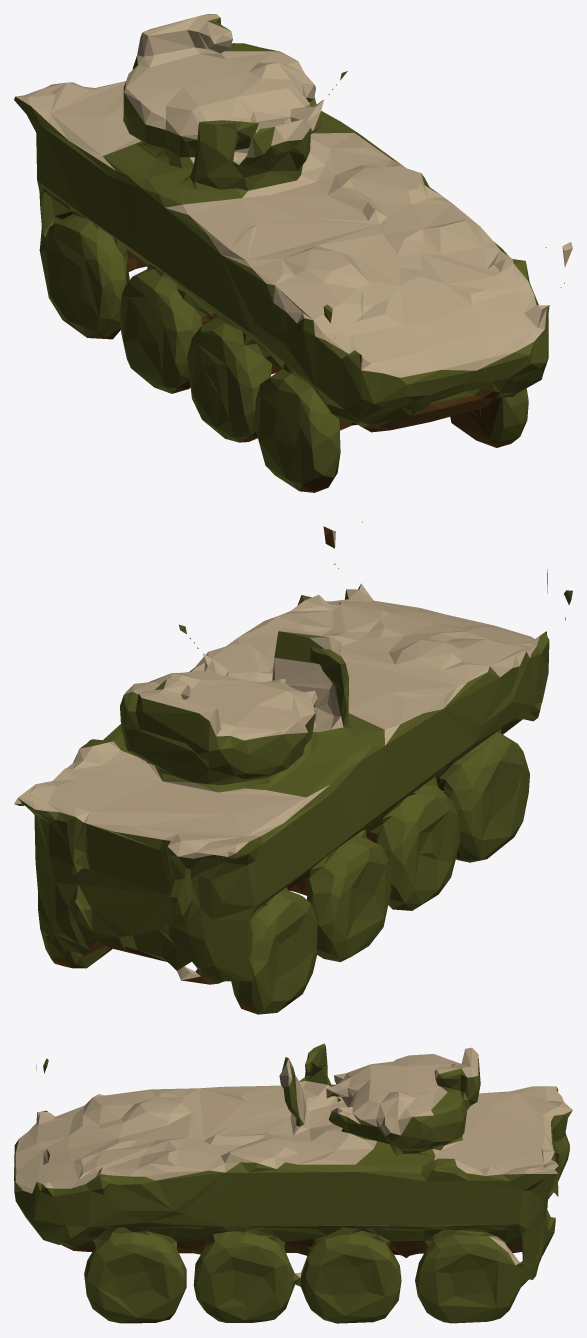
The model's file is SM_VCR_Dragon.fbx.
3 views of the same model, one above another, from view 1: azimuth 30°, elevation 25°; view 2: azimuth 150°, elevation 25°; view 3: azimuth 270°, elevation 25° (orthographic). The views are drawn at different scales.
Visible parts, largest first — view 1: SM_VCR_Dragon; view 2: SM_VCR_Dragon; view 3: SM_VCR_Dragon.
Part boxes in pixels (x1,y1,x2,y2): SM_VCR_Dragon: (14,14,572,492); SM_VCR_Dragon: (14,521,572,1014); SM_VCR_Dragon: (14,1043,572,1323).
Bounding box in the file's own units: 3.22 × 3.54 × 7.96.
Materials: 1 (1 with a texture image).
